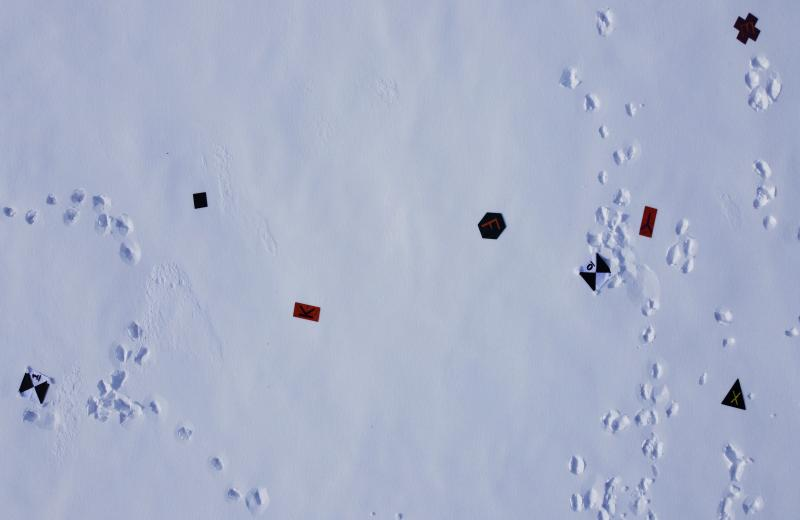Cross: (732, 13, 764, 45), (721, 379, 750, 412)
Hexagon: (478, 209, 508, 242)
Rectangle: (637, 204, 658, 240), (292, 300, 321, 322)
Square: (193, 192, 210, 210)
